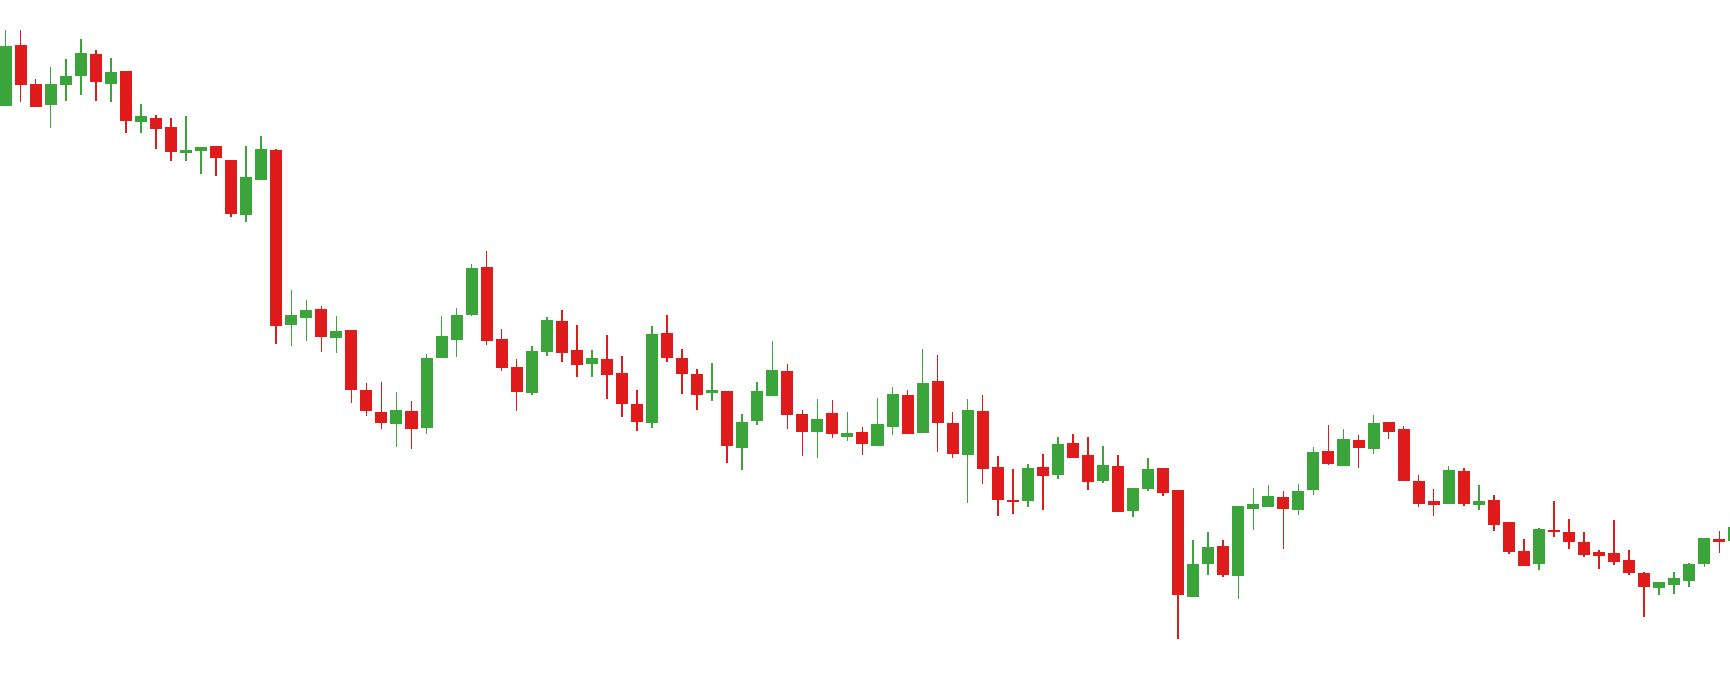sell: (285, 252, 495, 392)
